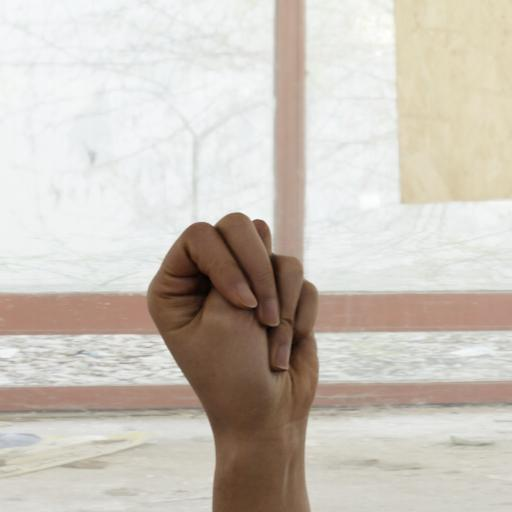N: (130, 200, 352, 442)
